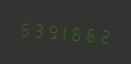five: (17, 15, 29, 40)
nine: (43, 18, 55, 43)
one: (56, 19, 68, 44)
six: (69, 20, 81, 45), (82, 21, 94, 46)
three: (30, 17, 42, 41)
two: (95, 22, 107, 47)
